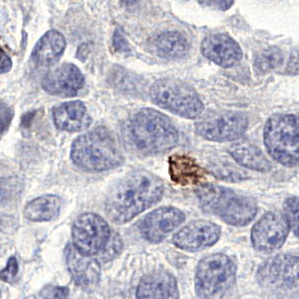Lymphocyte: (165, 152, 210, 185)
